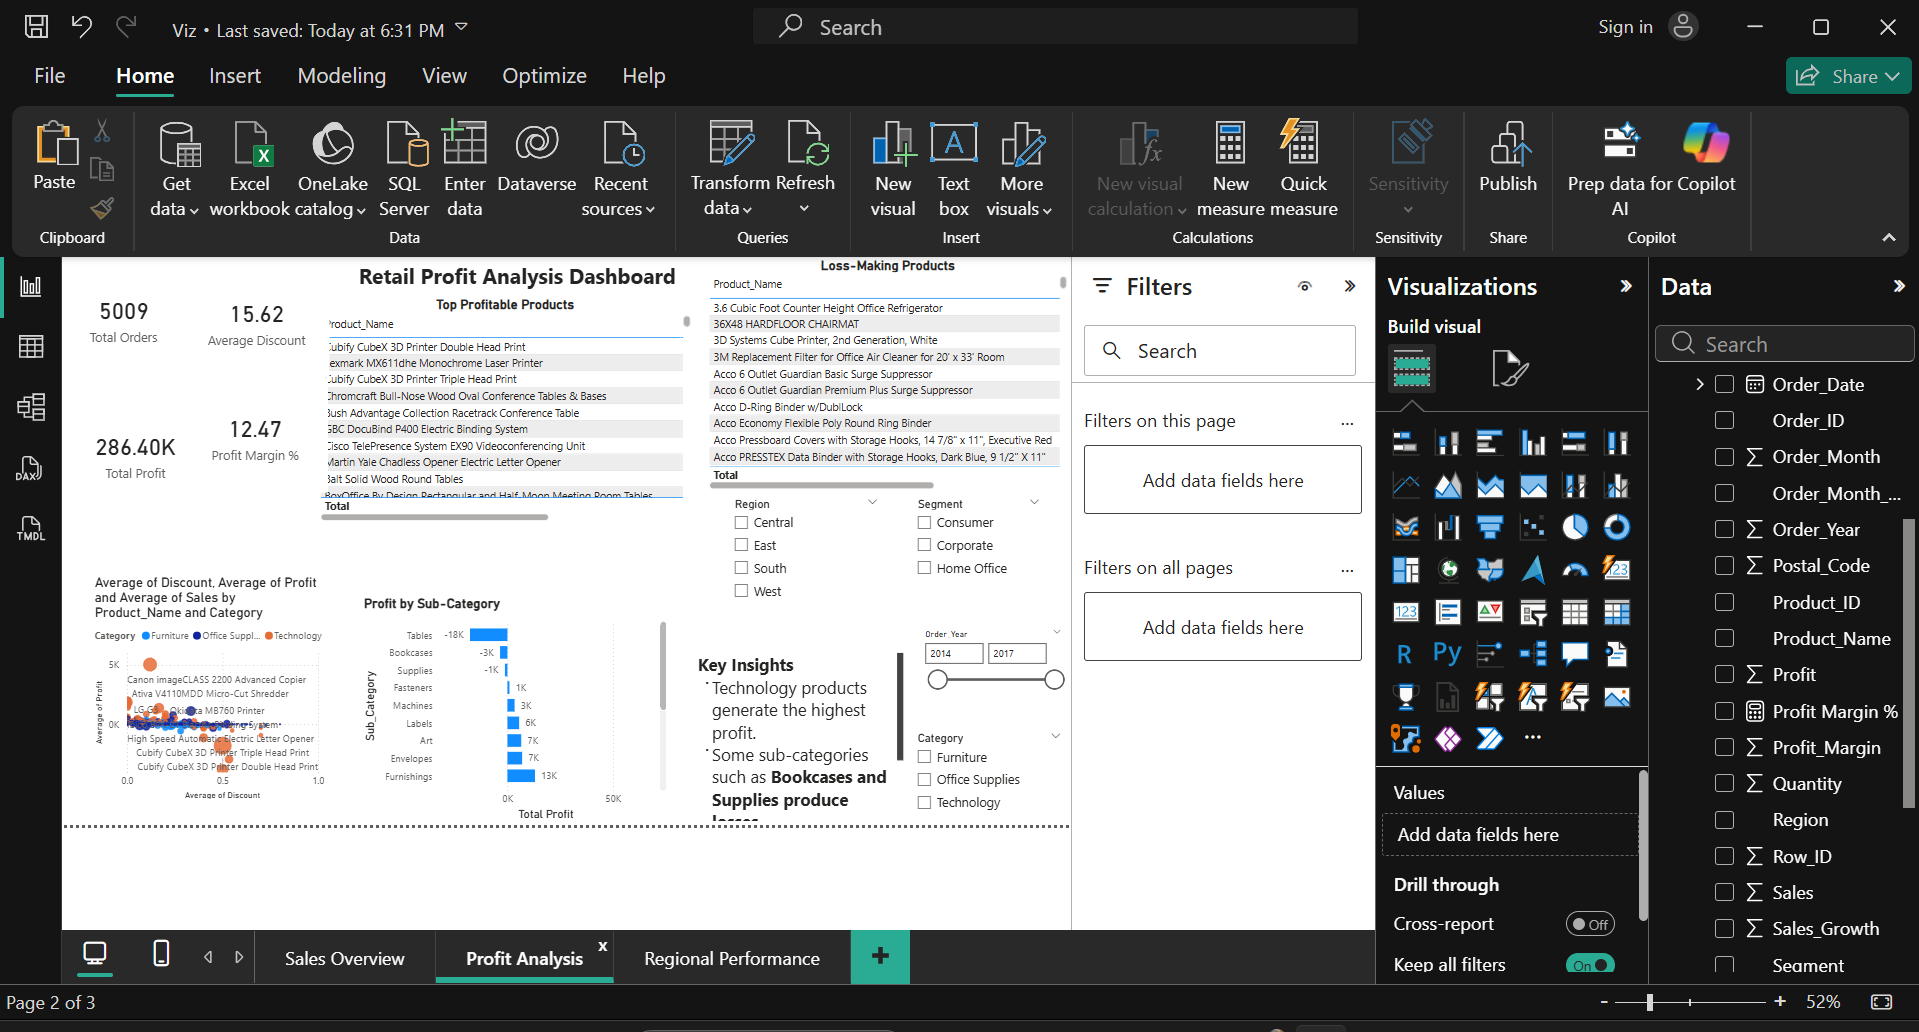

The page's visual inventory and layout, read from the dashboard file:
{"tool":"powerbi","page":{"name":"Profit Analysis","canvas":[1280,720],"ordinal":1},"visuals":[{"type":"textbox","box":[366.3,0,421.9,49.9],"z":0},{"type":"clusteredBarChart","title":"Profit by Sub-Category","fields":{"Category":["superstore_clean.Sub_Category"],"Y":["superstore_clean.Total Profit"]},"box":[377.8,429.6,393.1,289.6],"z":1000},{"type":"scatterChart","fields":{"X":["Avg(superstore_clean.Discount)"],"Y":["Avg(superstore_clean.Profit)"],"Size":["Avg(superstore_clean.Sales)"],"Category":["superstore_clean.Product_Name"],"Series":["superstore_clean.Category"]},"box":[36.4,402.7,301.1,289.6],"z":2000},{"type":"tableEx","title":"Top Profitable Products","fields":{"Values":["superstore_clean.Product_Name","superstore_clean.Total Sales","superstore_clean.Total Profit","superstore_clean.Profit Margin %"]},"box":[322.2,49.9,479.4,289.6],"z":3000},{"type":"tableEx","title":"Loss-Making Products","fields":{"Values":["superstore_clean.Product_Name","superstore_clean.Sub_Category","superstore_clean.Total Sales","superstore_clean.Total Profit"]},"box":[815.1,0,464.1,299.2],"z":4000},{"type":"slicer","fields":{"Values":["superstore_clean.Region"]},"box":[840,299.2,207.1,159.2],"z":5000},{"type":"slicer","fields":{"Values":["superstore_clean.Category"]},"box":[1072,596.4,207.1,122.7],"z":6000},{"type":"slicer","fields":{"Values":["superstore_clean.Order_Year"]},"box":[1081.6,466,197.5,130.4],"z":7000},{"type":"slicer","fields":{"Values":["superstore_clean.Segment"]},"box":[1072,299.2,180.3,157.3],"z":8000},{"type":"card","fields":{"Values":["superstore_clean.Total Profit"]},"box":[0,176.4,186,145.8],"z":9000},{"type":"card","fields":{"Values":["superstore_clean.Average Discount"]},"box":[153.4,7.7,186,145.8],"z":10000},{"type":"card","fields":{"Values":["superstore_clean.Profit Margin %"]},"box":[151.5,153.4,186,145.8],"z":11000},{"type":"textbox","box":[801.6,496.7,270.4,222.5],"z":12000},{"type":"card","fields":{"Values":["superstore_clean.Total Orders"]},"box":[1.9,0,151.5,153.4],"z":13000}]}

Visuals, with their boxes on the page's 1280x720 design canvas (x1, y1, x2, y2). These are canvas units, not pixel positions in the 1919x1032 screenshot, which may show the page scaled, cropped or inside an application window:
textbox: 366/0/788/50
"Profit by Sub-Category" clusteredBarChart: 378/430/771/719
scatterChart - Avg(superstore_clean.Discount) x Avg(superstore_clean.Profit): 36/403/338/692
"Top Profitable Products" tableEx: 322/50/802/340
"Loss-Making Products" tableEx: 815/0/1279/299
slicer - superstore_clean.Region: 840/299/1047/458
slicer - superstore_clean.Category: 1072/596/1279/719
slicer - superstore_clean.Order_Year: 1082/466/1279/596
slicer - superstore_clean.Segment: 1072/299/1252/456
card - superstore_clean.Total Profit: 0/176/186/322
card - superstore_clean.Average Discount: 153/8/339/154
card - superstore_clean.Profit Margin %: 152/153/338/299
textbox: 802/497/1072/719
card - superstore_clean.Total Orders: 2/0/153/153
